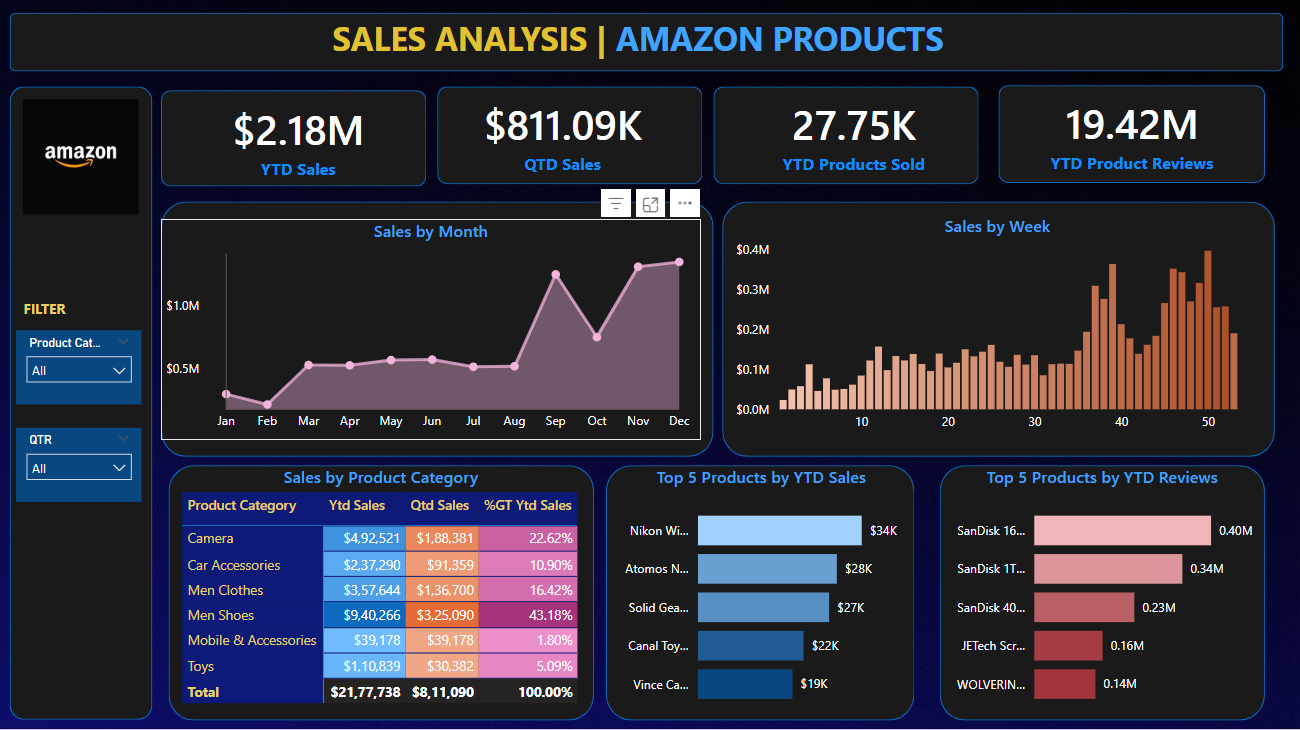

The page's visual inventory and layout, read from the dashboard file:
{"tool":"powerbi","page":{"name":"Page 1","canvas":[1280,720],"ordinal":0},"visuals":[{"type":"shape","box":[13.7,13.7,1250.1,57.6],"z":0},{"type":"textbox","box":[330.7,12.3,616.1,59],"z":1000},{"type":"shape","box":[13.7,86.4,140,621.6],"z":2000},{"type":"shape","box":[161.6,89,260.3,94.5],"z":3000},{"type":"card","fields":{"Values":["Amazon_Data.YTD Sales"]},"box":[167.1,89,260.3,97.3],"z":4000},{"type":"shape","box":[432.9,86.3,260.3,95.9],"z":5000},{"type":"shape","box":[704.1,86.3,260.3,95.9],"z":6000},{"type":"shape","box":[983.6,84.9,261.6,95.9],"z":7000},{"type":"card","fields":{"Values":["Amazon_Data.Qtd Sales"]},"box":[427.4,84.9,258.9,97.3],"z":8000},{"type":"card","fields":{"Values":["Amazon_Data.YTD products sold"]},"box":[712.3,84.9,258.9,97.3],"z":9000},{"type":"card","fields":{"Values":["Amazon_Data.Ytd reviews"]},"box":[984.9,83.6,260.3,97.3],"z":10000},{"type":"shape","box":[161.6,198.6,542.5,250.7],"z":11000},{"type":"areaChart","title":" Sales by Month","fields":{"Y":["Sum(Amazon_Data.Price(Dollar))"],"Category":["Date Table.Month Name"]},"box":[161.6,216.4,530.1,216.4],"z":12000},{"type":"shape","box":[712.3,198.6,542.5,250.7],"z":13000},{"type":"columnChart","title":"Sales by Week","fields":{"Category":["Date Table.Week"],"Y":["Sum(Amazon_Data.Price(Dollar))"]},"box":[721.9,211,523.3,221.9],"z":14000},{"type":"shape","box":[169.9,457.5,417.8,250.7],"z":15000},{"type":"pivotTable","title":"Sales by Product Category","fields":{"Rows":["Amazon_Data.Product Category"],"Values":["Amazon_Data.Ytd Sales1","Amazon_Data.Qtd Sales","Amazon_Data.Ytd Sales"]},"box":[178.1,457.5,400,239.7],"z":16000},{"type":"shape","box":[598.6,457.5,302.7,250.7],"z":17000},{"type":"shape","box":[926,457.5,319.2,250.7],"z":18000},{"type":"clusteredBarChart","title":"Top 5 Products by YTD Sales","fields":{"Category":["Amazon_Data.Product Description"],"Y":["Amazon_Data.Ytd Sales"]},"box":[601.4,457.5,300,250.7],"z":19000},{"type":"clusteredBarChart","title":"Top 5 Products by YTD Reviews","fields":{"Category":["Amazon_Data.Product Description"],"Y":["Amazon_Data.Ytd reviews"]},"box":[926,457.5,319.2,250.7],"z":20000},{"type":"slicer","fields":{"Values":["Amazon_Data.Product Category"]},"box":[19.2,324.7,123.3,72.6],"z":21000},{"type":"slicer","fields":{"Values":["Date Table.QTR"]},"box":[19.2,420.5,123.3,72.6],"z":22000},{"type":"image","box":[16.4,93.2,134.2,123.3],"z":22001},{"type":"textbox","box":[21.9,289,61.6,32.9],"z":22002}]}

Visuals, with their boxes in screenshot pixels (x1, y1, x2, y2), scaled from the page's 1280x720 canvas onto the 1300x730 screenshot:
shape: x1=14, y1=14, x2=1284, y2=72
textbox: x1=336, y1=12, x2=962, y2=72
shape: x1=14, y1=88, x2=156, y2=718
shape: x1=164, y1=90, x2=428, y2=186
card - Amazon_Data.YTD Sales: x1=170, y1=90, x2=434, y2=189
shape: x1=440, y1=87, x2=704, y2=185
shape: x1=715, y1=87, x2=979, y2=185
shape: x1=999, y1=86, x2=1265, y2=183
card - Amazon_Data.Qtd Sales: x1=434, y1=86, x2=697, y2=185
card - Amazon_Data.YTD products sold: x1=723, y1=86, x2=986, y2=185
card - Amazon_Data.Ytd reviews: x1=1000, y1=85, x2=1265, y2=183
shape: x1=164, y1=201, x2=715, y2=456
" Sales by Month" areaChart: x1=164, y1=219, x2=703, y2=439
shape: x1=723, y1=201, x2=1274, y2=456
"Sales by Week" columnChart: x1=733, y1=214, x2=1265, y2=439
shape: x1=173, y1=464, x2=597, y2=718
"Sales by Product Category" pivotTable: x1=181, y1=464, x2=587, y2=707
shape: x1=608, y1=464, x2=915, y2=718
shape: x1=940, y1=464, x2=1265, y2=718
"Top 5 Products by YTD Sales" clusteredBarChart: x1=611, y1=464, x2=915, y2=718
"Top 5 Products by YTD Reviews" clusteredBarChart: x1=940, y1=464, x2=1265, y2=718
slicer - Amazon_Data.Product Category: x1=20, y1=329, x2=145, y2=403
slicer - Date Table.QTR: x1=20, y1=426, x2=145, y2=500
image: x1=17, y1=94, x2=153, y2=220
textbox: x1=22, y1=293, x2=85, y2=326
